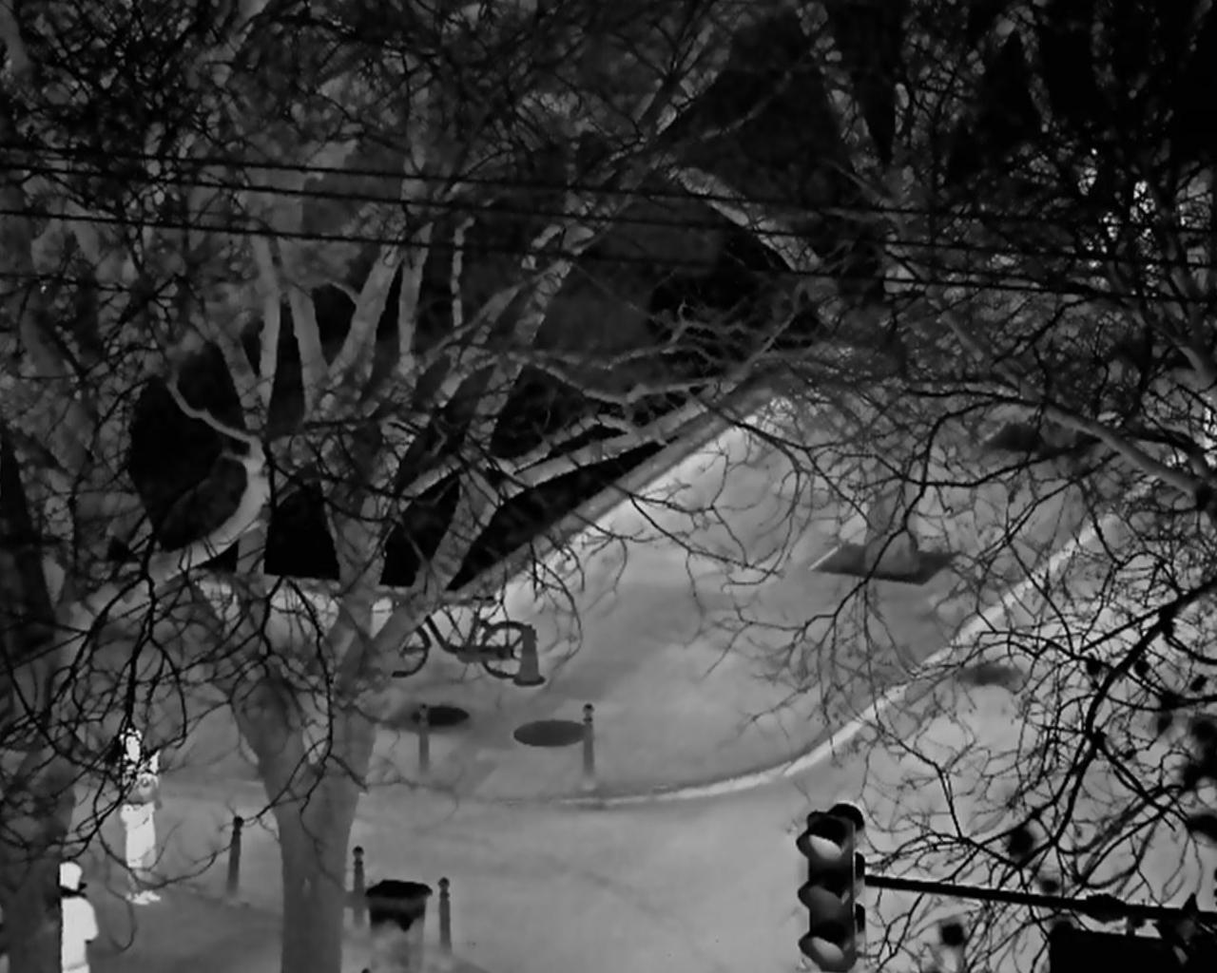person: (114, 727, 165, 910), (56, 859, 98, 973)
